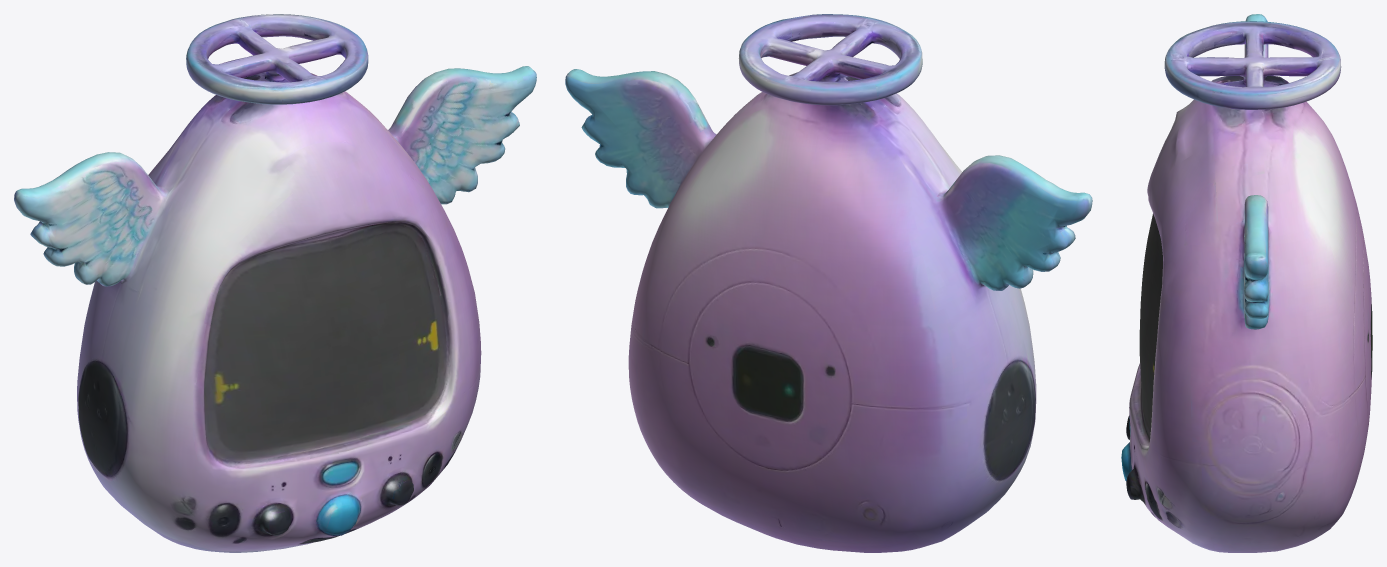
File: angelgotchi.glb
The picture shows the model from 3 angles, left to right: view 1: azimuth 30°, elevation 25°; view 2: azimuth 150°, elevation 25°; view 3: azimuth 270°, elevation 25°; orthographic projection. The views are drawn at different scales.
Visible parts, largest first — view 1: Mesh_0; view 2: Mesh_0; view 3: Mesh_0.
Boxes of the visible parts, x1,y1,x2,y2 form: Mesh_0: (14, 14, 536, 552); Mesh_0: (565, 14, 1092, 552); Mesh_0: (1121, 14, 1372, 552).
Size of the model in its own units: 2 by 1.77 by 0.865.
1 material, 1 textured.
